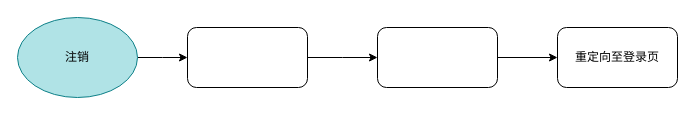
This 695x115 diagram has some shape labels left out. Each missing label, with the centre of its shape:
"删除session" belongs at (x=437, y=57).
"接收数据" belongs at (x=247, y=57).
